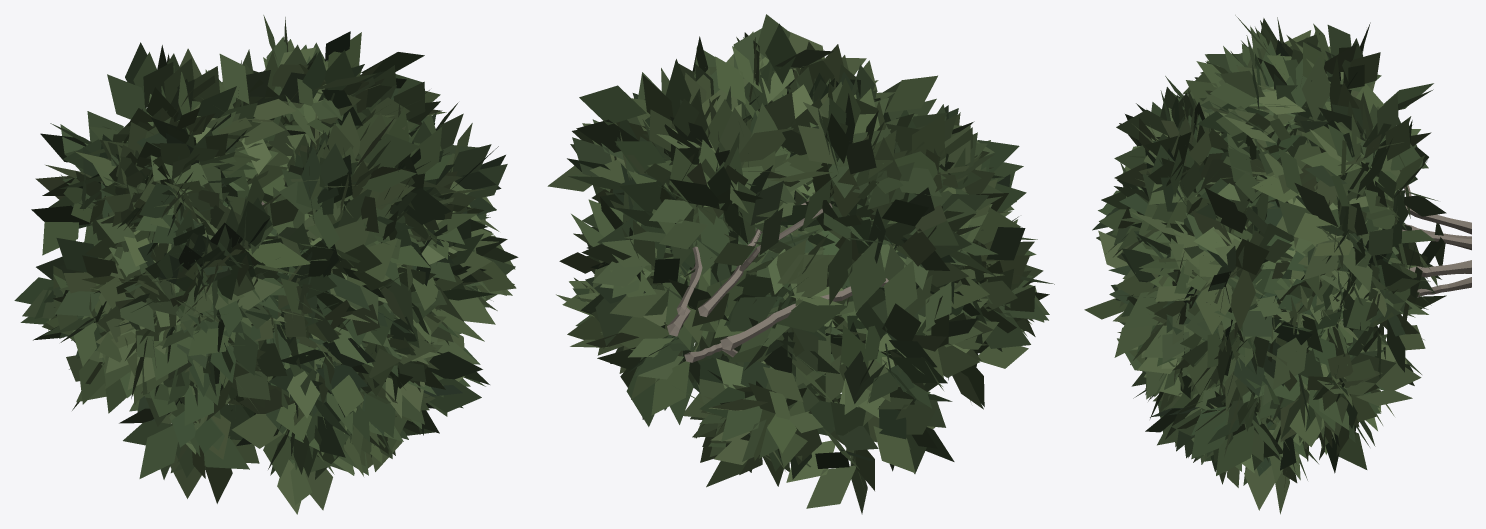
File: tree_shrub_mid_00.obj
3 views of the same model, side by side, from view 1: azimuth 30°, elevation 25°; view 2: azimuth 150°, elevation 25°; view 3: azimuth 270°, elevation 25° (orthographic). The views are drawn at different scales.
Parts seen in each view (by area): view 1: tree_shrub_mid_00; view 2: tree_shrub_mid_00; view 3: tree_shrub_mid_00.
Boxes of the visible parts, left/top/right/bottom form: tree_shrub_mid_00: left=14, top=15, right=518, bottom=514; tree_shrub_mid_00: left=547, top=14, right=1054, bottom=514; tree_shrub_mid_00: left=1084, top=15, right=1471, bottom=514.
Size of the model in its own units: 1.38 by 1.3 by 1.07.
1 material, 1 textured.
